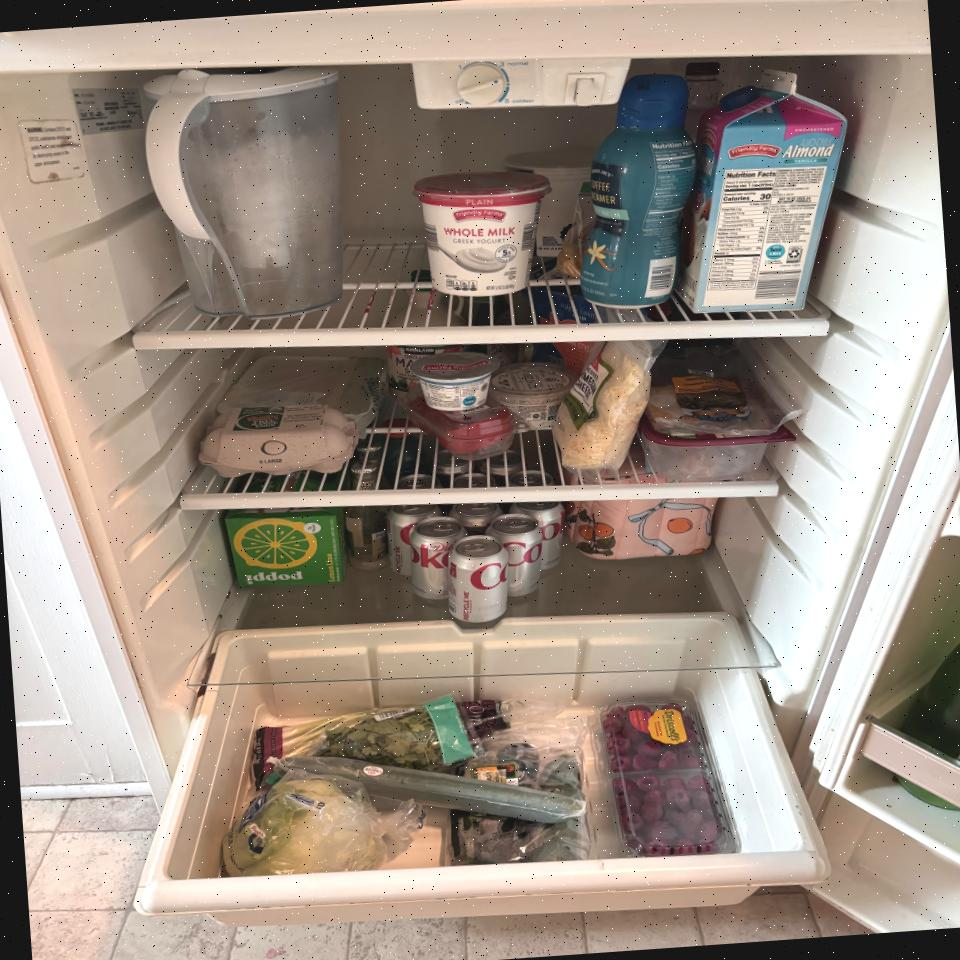Huevos: (193, 398, 364, 486)
Leche: (670, 63, 857, 317)
Lechuga/Endivia: (217, 772, 389, 882)
Pepino: (270, 730, 594, 845)
Yogur: (404, 166, 560, 302)
